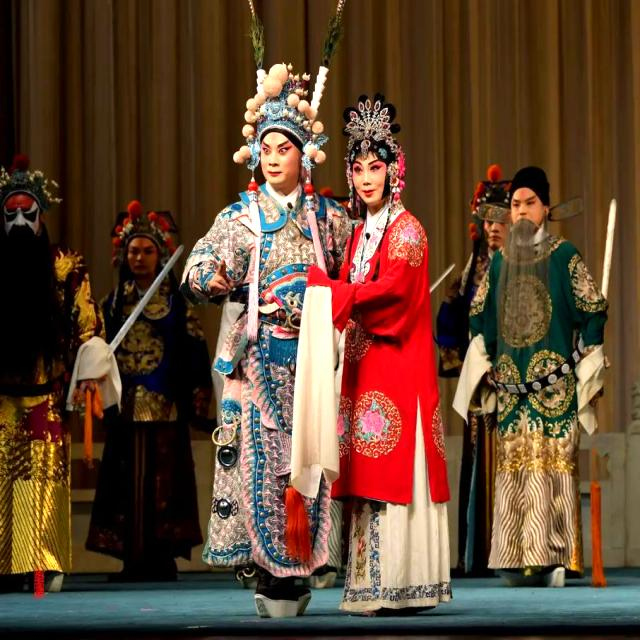Reeves-s Pheasant: (320, 0, 345, 67), (248, 0, 264, 70)
